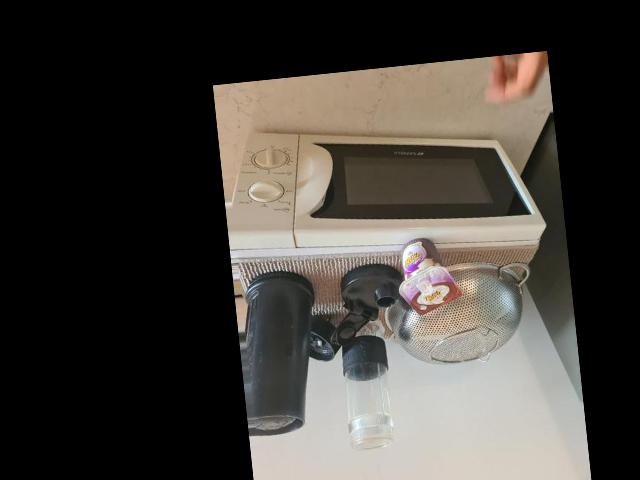milky: (394, 236, 457, 318)
